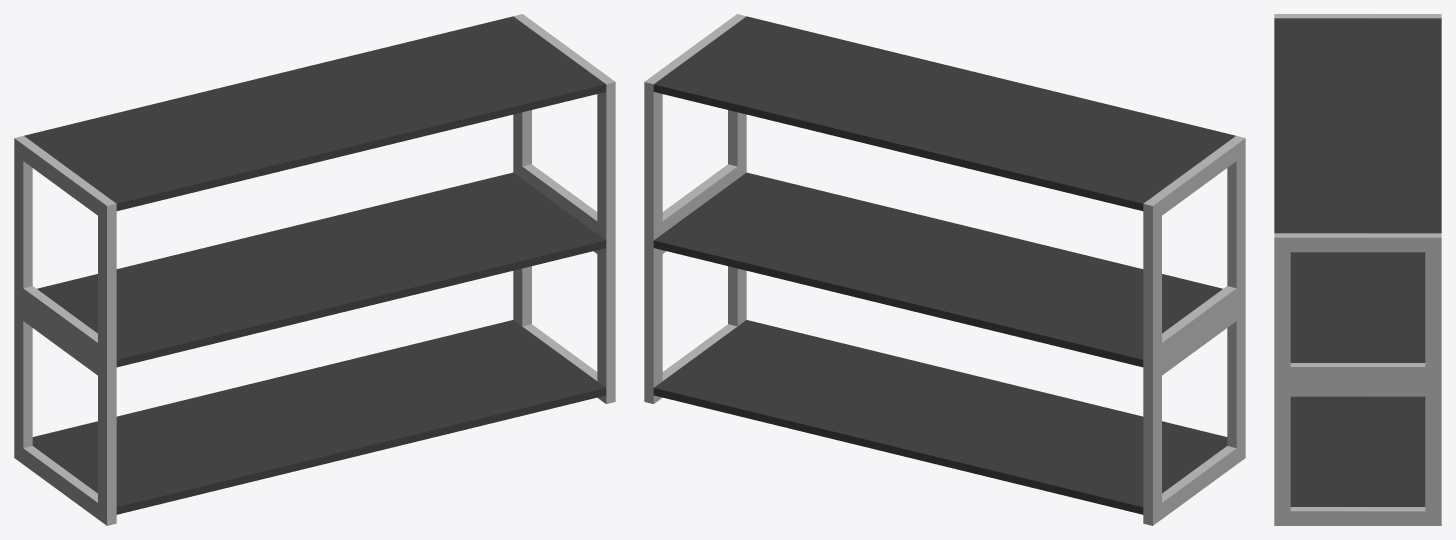
File: shelf_010.glb
3 views of the same model, side by side, from view 1: azimuth 30°, elevation 25°; view 2: azimuth 150°, elevation 25°; view 3: azimuth 270°, elevation 25° (orthographic). The views are drawn at different scales.
Visible parts, largest first — view 1: shelf_010; view 2: shelf_010; view 3: shelf_010.
Boxes of the visible parts, x1,y1,x2,y2 form: shelf_010: (14,14,615,525); shelf_010: (644,14,1245,525); shelf_010: (1274,14,1441,525).
Bounding box in the file's own units: 1.17 × 0.7049 × 0.3711.
Materials: 1 (1 with a texture image).
